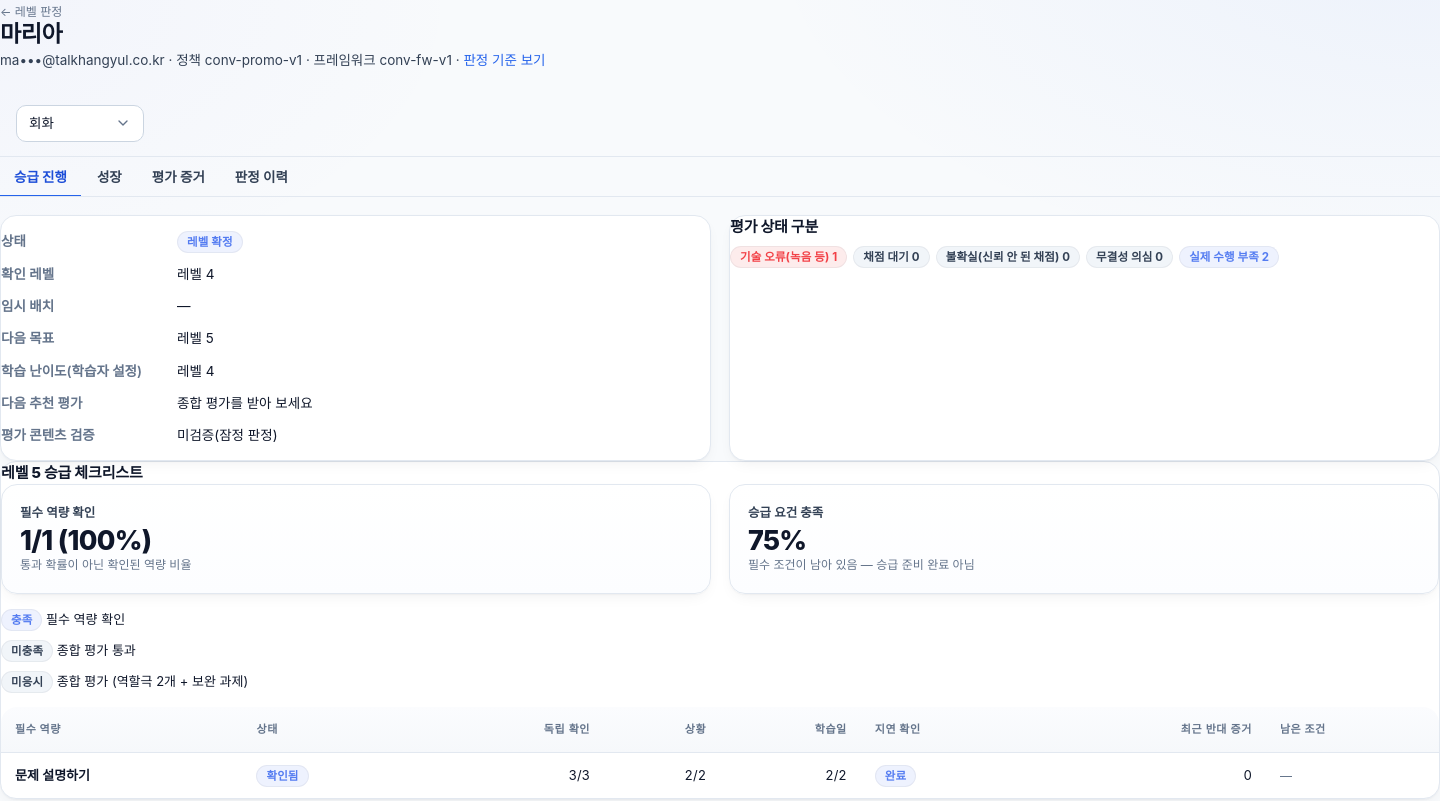
Test: 실력 판정 detail › labels the retired rule's levels as legacy history
The width and height of the screenshot is (1440, 801).
Click the tab "판정 이력". click: x=261, y=177
box: x1=221 y1=157 x2=302 y2=197
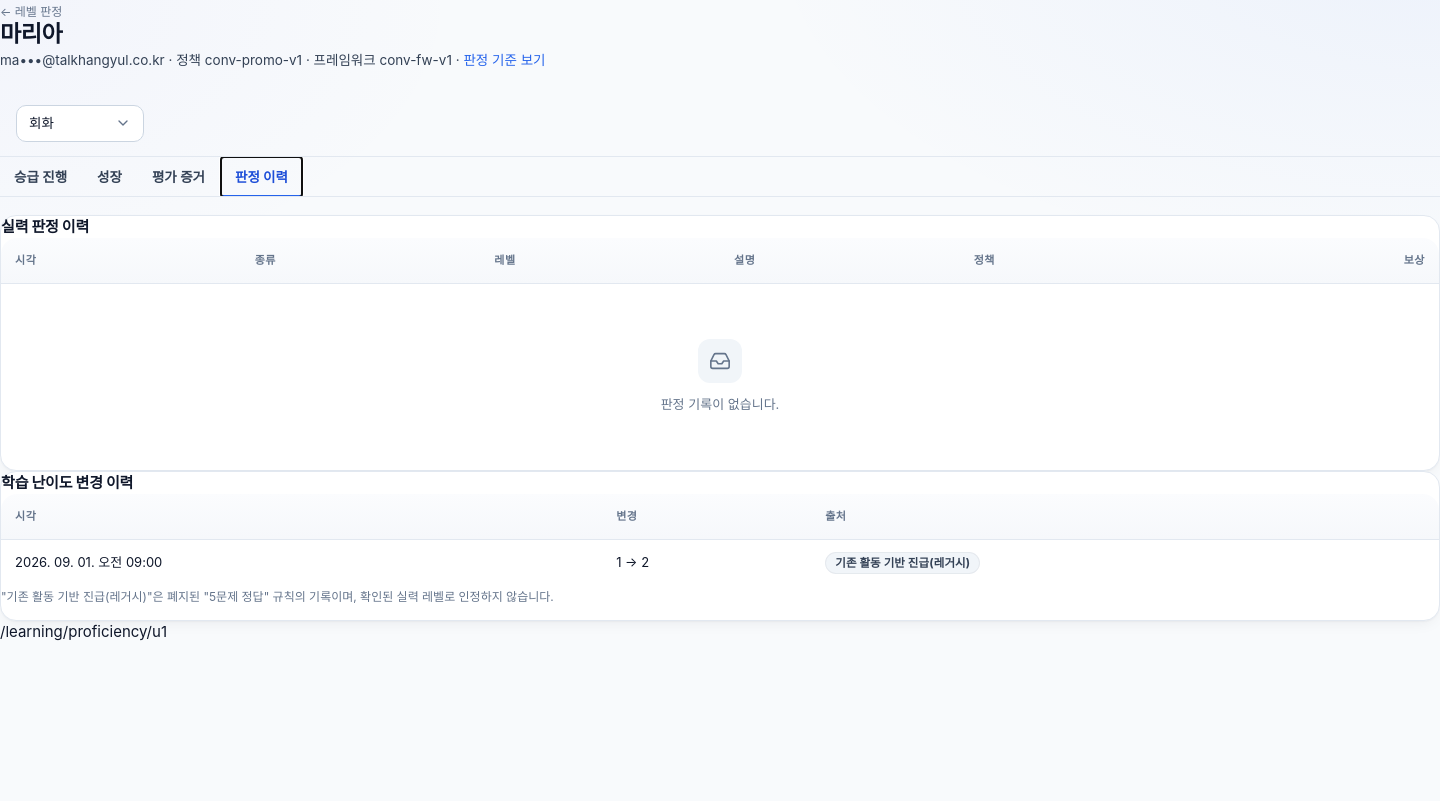
Expected: the text "기존 활동 기반 진급(레거시)" is shown, x1=825 y1=552 x2=980 y2=574
Expected: the text "확인된 실력 레벨로 인정하지 않습니다" is shown, x1=1 y1=589 x2=554 y2=604
